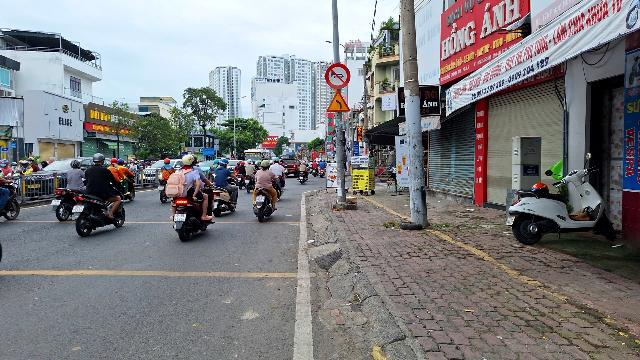cam-bop-coi: (324, 63, 351, 90)
cho-ngoat-nguy-hiem-ben-trai: (326, 91, 350, 112)
